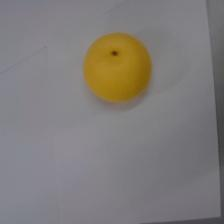yellow: (84, 33, 151, 103)
